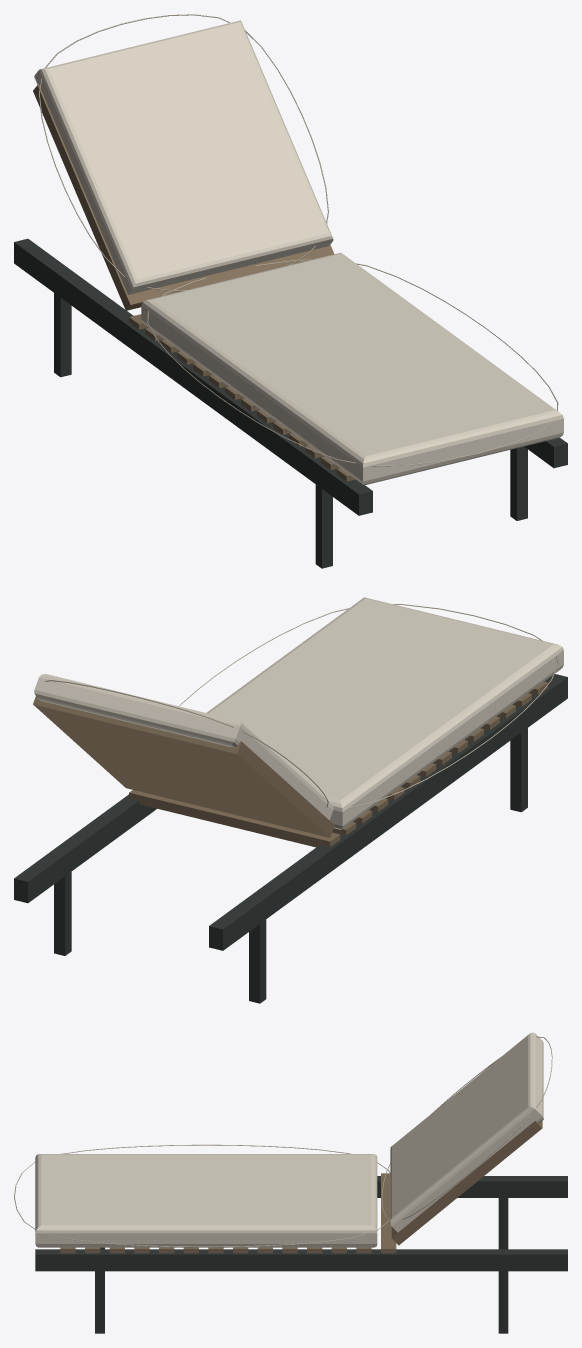
Rendered from lounge-chair-lod1.glb.
The picture shows the model from 3 angles, top to bottom: view 1: azimuth 30°, elevation 25°; view 2: azimuth 150°, elevation 25°; view 3: azimuth 270°, elevation 25°; orthographic projection. The views are drawn at different scales.
Parts seen in each view (by area): view 1: Natural woven outdoor cushion, Powder-coated charcoal frame, Warm teak slats, Cushion stitched piping; view 2: Natural woven outdoor cushion, Warm teak slats, Powder-coated charcoal frame, Cushion stitched piping; view 3: Natural woven outdoor cushion, Powder-coated charcoal frame, Warm teak slats, Cushion stitched piping.
Boxes of the visible parts, x1,y1,x2,y2 form: Natural woven outdoor cushion: (34,20,563,485); Powder-coated charcoal frame: (14,238,567,568); Warm teak slats: (33,84,355,481); Cushion stitched piping: (38,14,558,466); Natural woven outdoor cushion: (34,597,563,829); Warm teak slats: (33,681,547,847); Powder-coated charcoal frame: (14,674,567,1003); Cushion stitched piping: (45,604,558,808); Natural woven outdoor cushion: (35,1032,543,1247); Powder-coated charcoal frame: (35,1176,567,1333); Warm teak slats: (60,1120,542,1253); Cushion stitched piping: (14,1036,552,1247).
Size of the model in its own units: 0.8639 by 0.9261 by 1.98.
